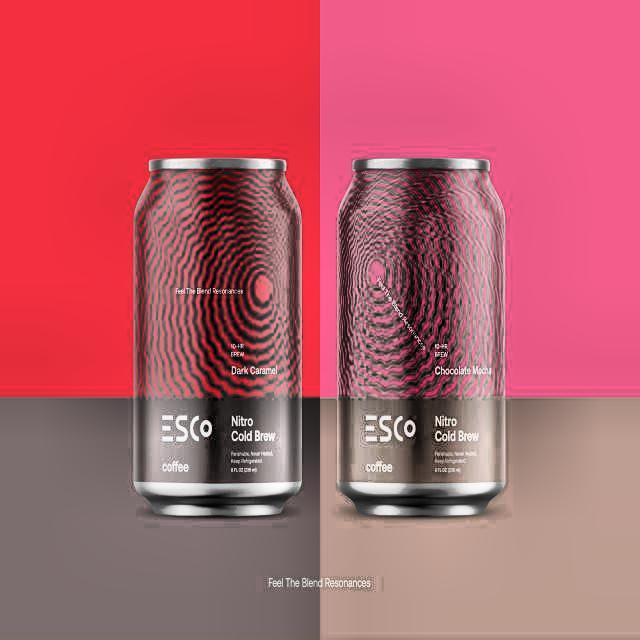litter: (129, 142, 311, 518), (334, 153, 517, 524)
